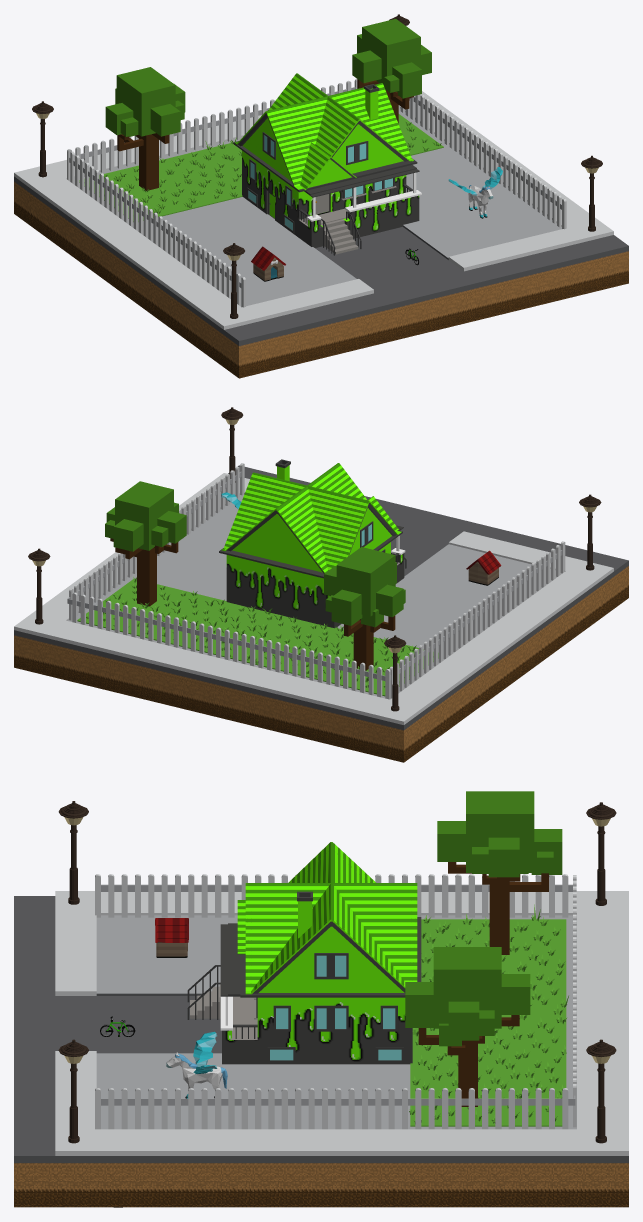
The picture shows the model from 3 angles, top to bottom: view 1: azimuth 30°, elevation 25°; view 2: azimuth 150°, elevation 25°; view 3: azimuth 270°, elevation 25°; orthographic projection. The views are drawn at different scales.
Visible parts, largest first — view 1: Cube.004, Cube.754, ANIMAL_PEGASO, OBJRANDOM_DOGHOUSE; view 2: Cube.004, Cube.754, OBJRANDOM_DOGHOUSE; view 3: Cube.004, Cube.754, ANIMAL_PEGASO, OBJRANDOM_DOGHOUSE.
Part boxes in pixels (box(x1,y1,x2,y2)): Cube.004: box(14, 14, 628, 378); Cube.754: box(233, 73, 421, 255); ANIMAL_PEGASO: box(448, 167, 502, 218); OBJRANDOM_DOGHOUSE: box(251, 246, 285, 281); Cube.004: box(14, 407, 628, 762); Cube.754: box(219, 459, 406, 628); OBJRANDOM_DOGHOUSE: box(466, 550, 501, 585); Cube.004: box(14, 791, 628, 1207); Cube.754: box(187, 842, 421, 1064); ANIMAL_PEGASO: box(166, 1031, 227, 1098); OBJRANDOM_DOGHOUSE: box(155, 918, 188, 957).
Bounding box in the file's own units: 4000 × 1573 × 4000.
Materials: 36 (4 with a texture image).
